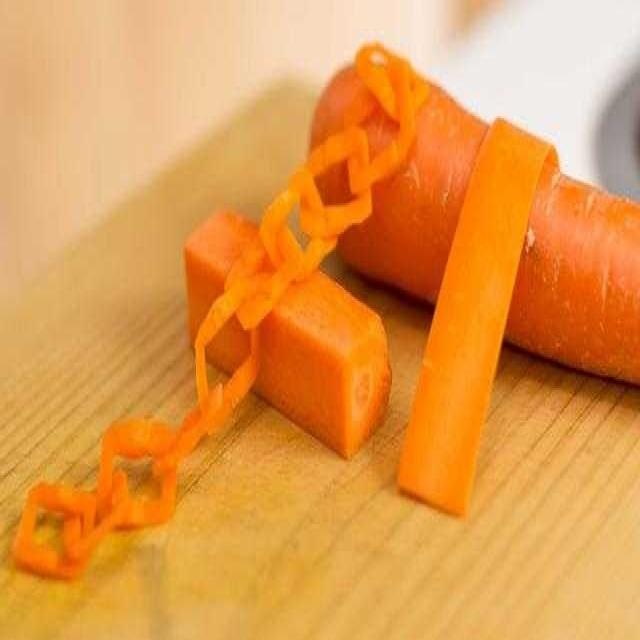carrots: (158, 191, 418, 484)
